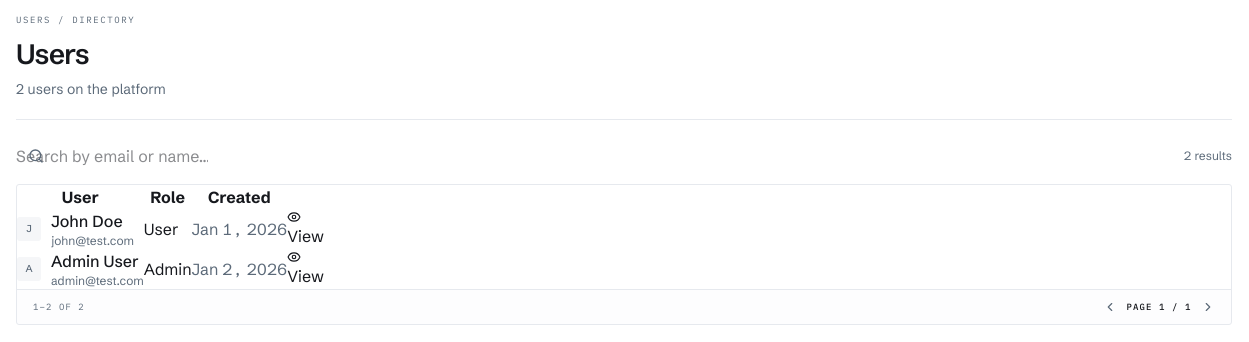
Test: AdminUsersPage › la recherche filtre les utilisateurs par email
Expected: the text "john@test.com" is shown, [51,232,134,248]
Type "admin" into the field with placeholder "Search by email or name…". click: (112, 156)
box: [16,144,208,168]
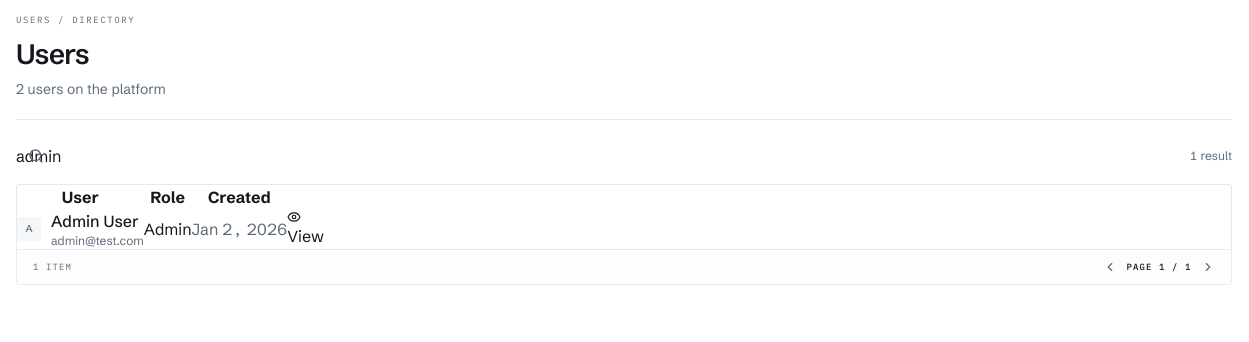
Expected: the text "admin@test.com" is shown, [51,232,144,248]
Now the text "john@test.com" is gone
